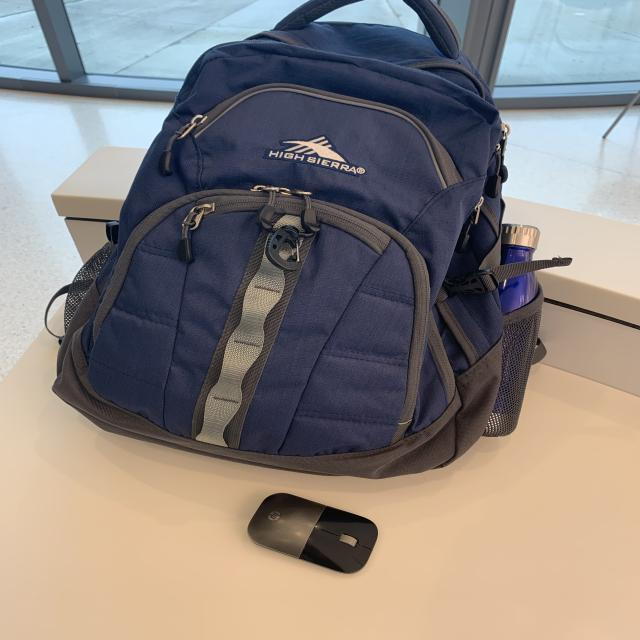Mouse: (249, 488, 388, 575)
